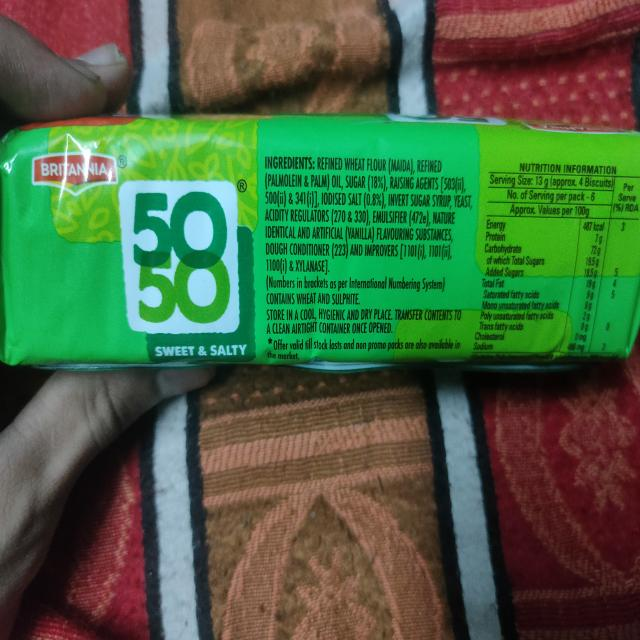50 50 biscuit: (11, 111, 640, 366)
